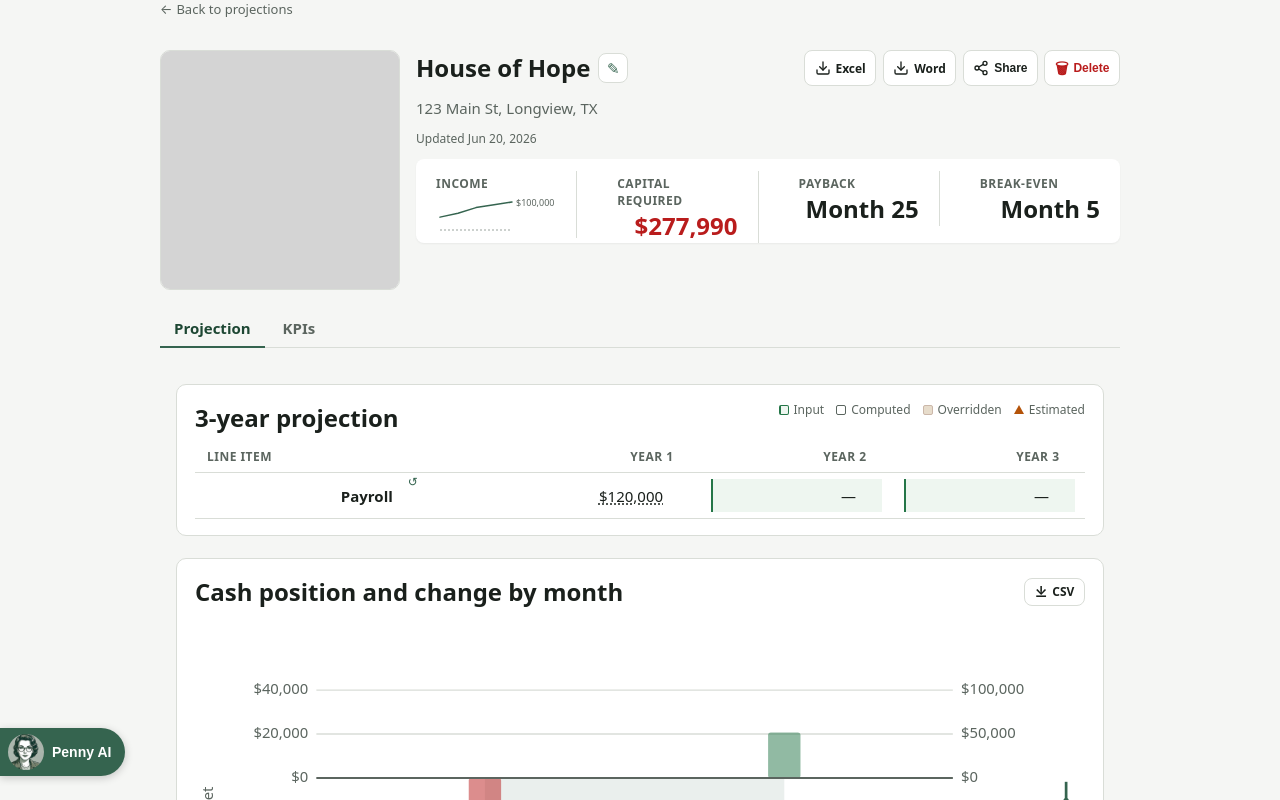
Scenario: ProjectionDetail — 409 modal preserves the edit (#P0 3.2) › Overwrite replays the EXACT failed body (overrides.set — not {name}) with the fresh If-Match
Expected: the element with test id "decision-banner" is shown, [416,159,1120,243]
Click the button with test id "cell-Payroll-y1": (631, 496) [415,479,689,512]
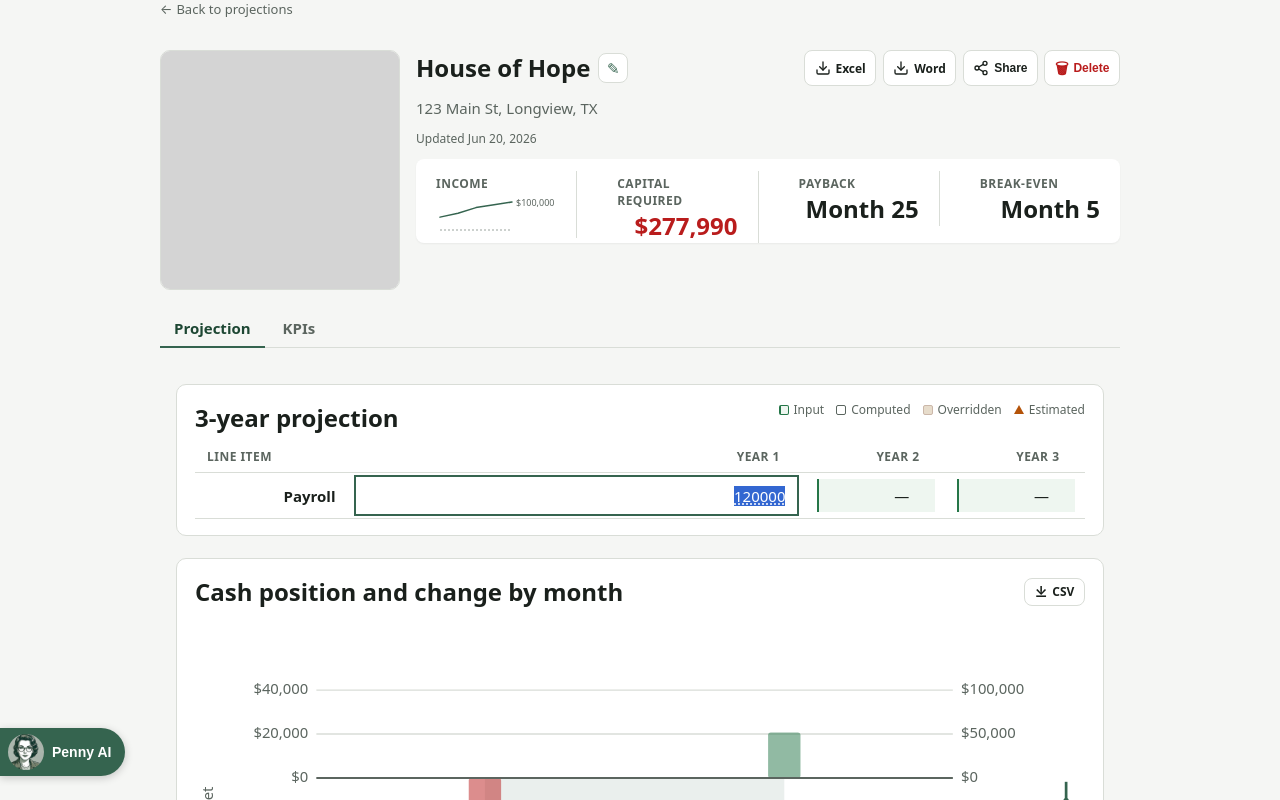
Replace the text in the field with test id "cell-Payroll-y1-input" with "130000": (576, 496) [358,479,796,512]
Then press Enter
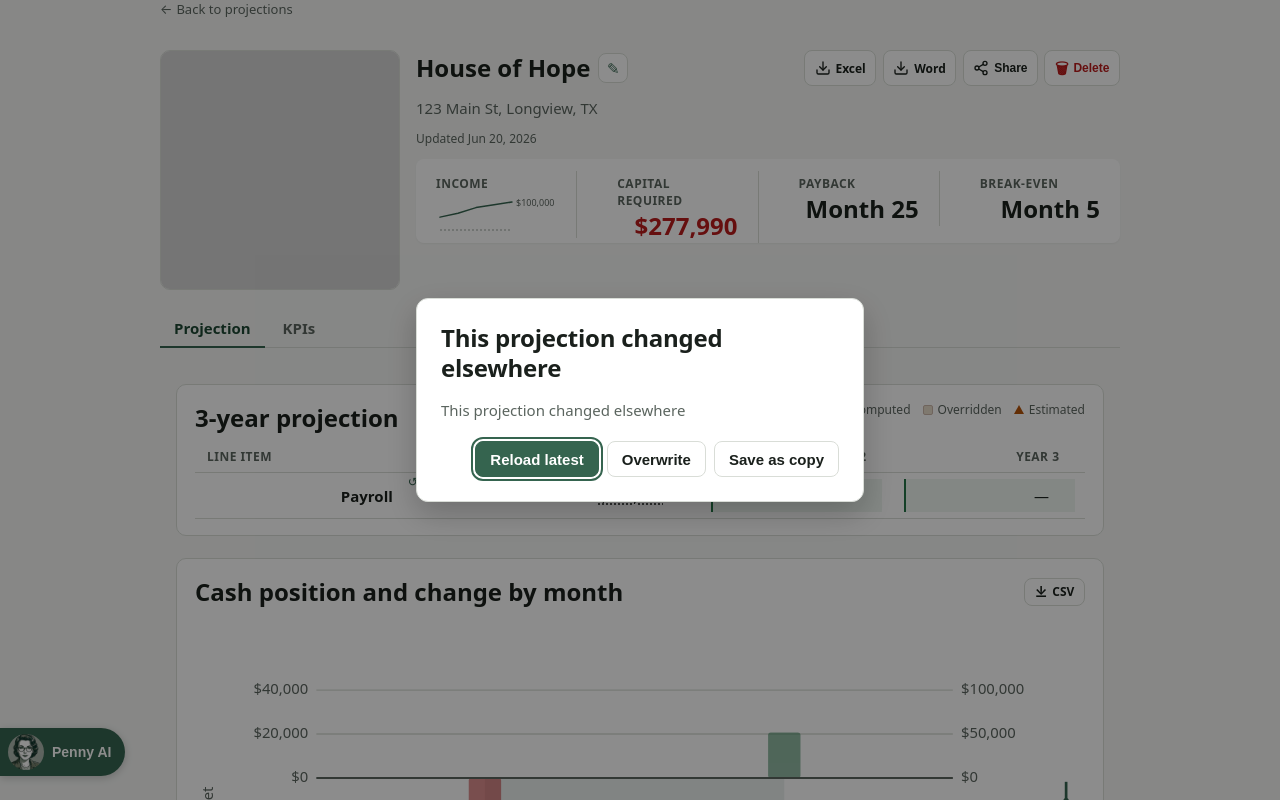
Now the dialog with test id "save-conflict-modal" is shown
Click the button "Overwrite": (656, 459) [607,441,706,477]
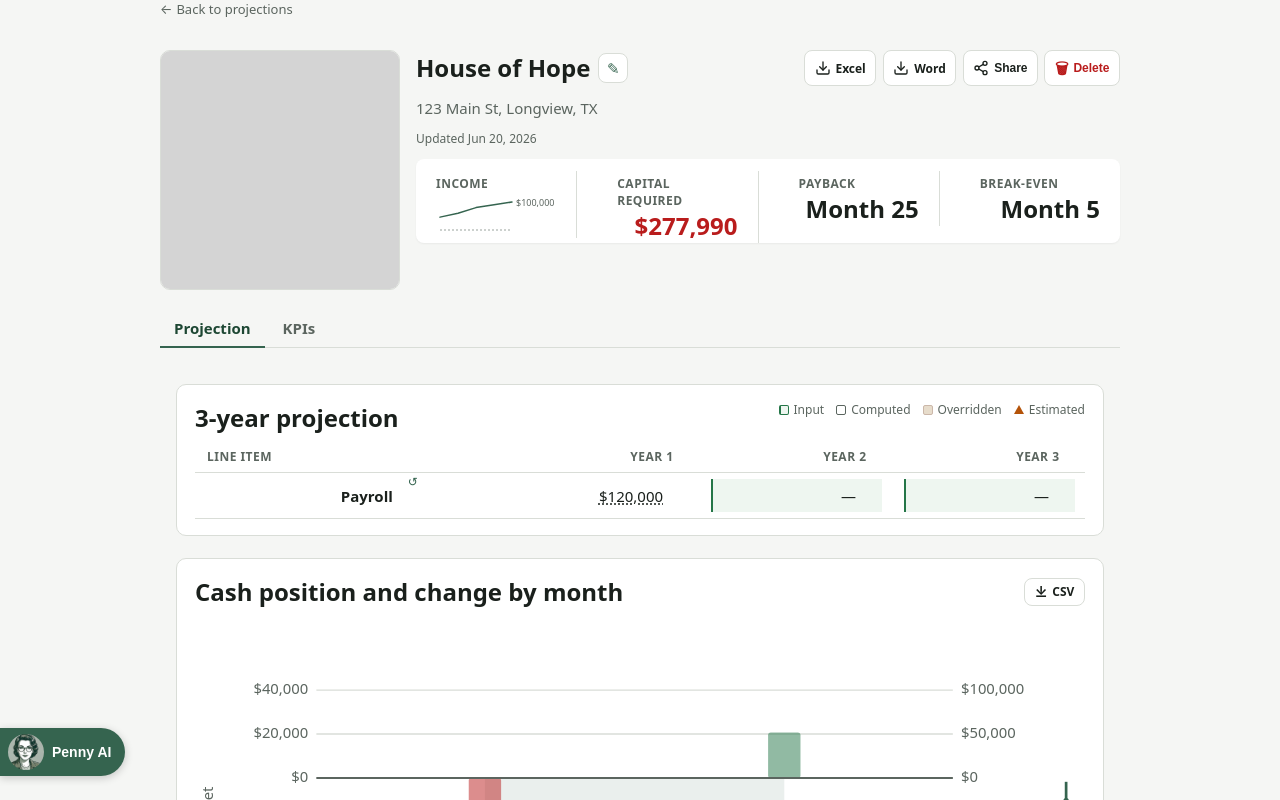
Now the dialog with test id "save-conflict-modal" is gone
